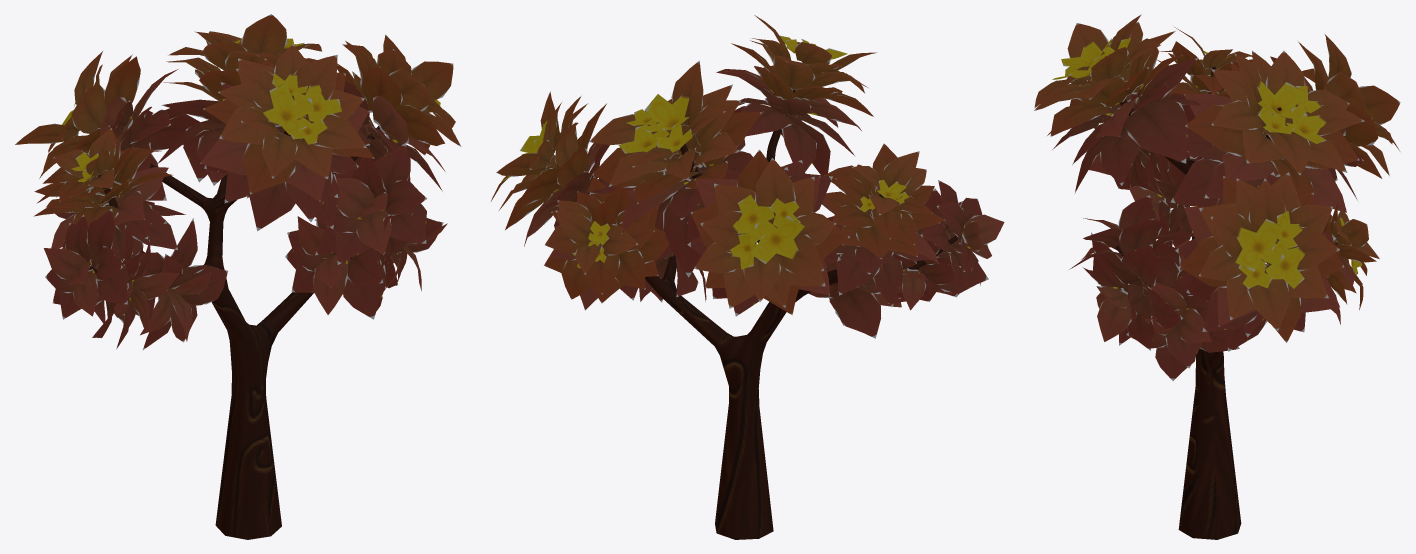
File: Forest_Trees_Orange_1.glb
3 views of the same model, side by side, from view 1: azimuth 30°, elevation 25°; view 2: azimuth 150°, elevation 25°; view 3: azimuth 270°, elevation 25° (orthographic). The views are drawn at different scales.
Visible parts, largest first — view 1: Object_12.007; view 2: Object_12.007; view 3: Object_12.007.
Boxes of the visible parts, x1,y1,x2,y2 form: Object_12.007: (15, 14, 461, 539); Object_12.007: (491, 15, 1004, 539); Object_12.007: (1034, 14, 1400, 539).
Bounding box in the file's own units: 238 × 245 × 166.
